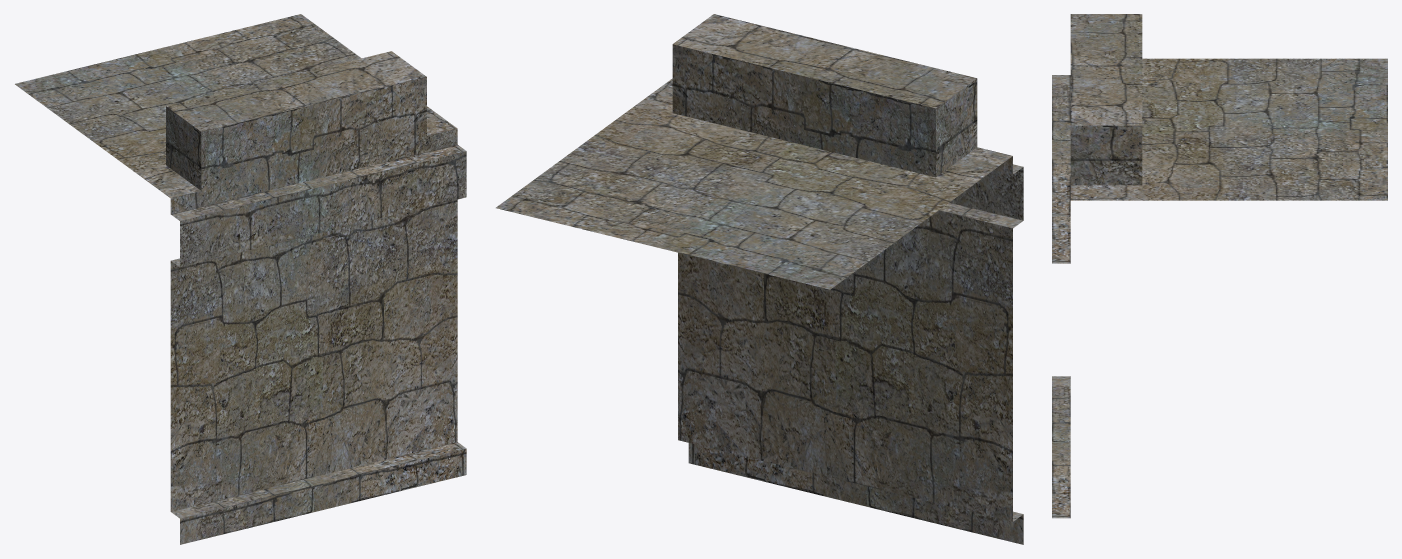
The model's file is L_Center.FBX.
3 views of the same model, side by side, from view 1: azimuth 30°, elevation 25°; view 2: azimuth 150°, elevation 25°; view 3: azimuth 270°, elevation 25° (orthographic). The views are drawn at different scales.
Visible parts, largest first — view 1: Claimed101S001; view 2: Claimed101S001; view 3: Claimed101S001.
Part boxes in pixels (left/top/right/bottom): Claimed101S001: left=15, top=14, right=466, bottom=544; Claimed101S001: left=496, top=14, right=1023, bottom=544; Claimed101S001: left=1052, top=14, right=1387, bottom=518.
Bounding box in the file's own units: 100 × 133 × 100.
